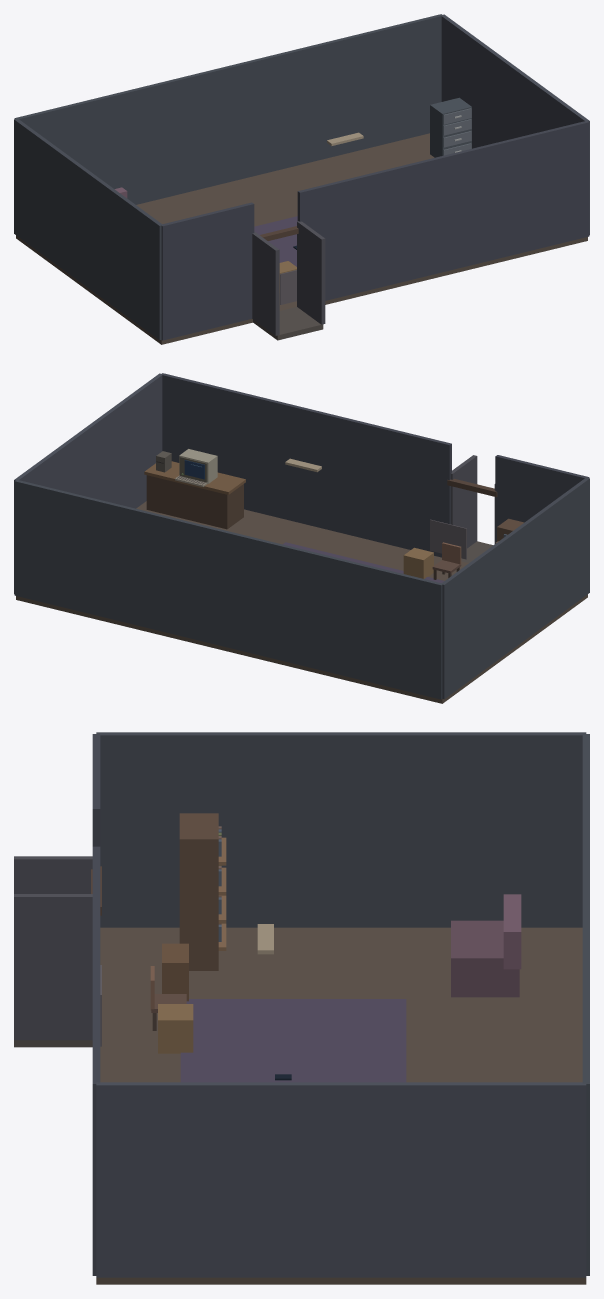
The model's file is estudioRadeC3.obj.
3 renders of one model, top to bottom at view 1: azimuth 30°, elevation 25°; view 2: azimuth 150°, elevation 25°; view 3: azimuth 270°, elevation 25°, orthographic. The views are drawn at different scales.
Visible parts, largest first — view 1: Pared_sur, Pared_norte_derecha, Pared_oeste, Piso_del_estudio, Pared_norte_izquierda, Pared_este, Pasillo_del_estudio, Decoración_original, Archivador, Umbral_del_estudio, Resane_de_pintura; view 2: Pared_sur, Pared_norte_derecha, Pared_oeste, Pared_este, Piso_del_estudio, Decoración_original, Pared_norte_izquierda, Escritorio, Pasillo_del_estudio, Resane_de_pintura, Caja_de_cables, Silla_que_estorba; view 3: Pared_este, Pared_oeste, Piso_del_estudio, Decoración_original, Pasillo_del_estudio, Librero, Sillón_de_lectura, Pared_sur, Pared_norte_derecha, Caja_de_cables, Mesa_auxiliar, Pared_norte_izquierda.
Part boxes in pixels (bbox=[...]): Pared_sur: bbox=[14, 14, 442, 204]; Pared_norte_derecha: bbox=[297, 121, 589, 300]; Pared_oeste: bbox=[14, 118, 162, 340]; Piso_del_estudio: bbox=[16, 133, 587, 344]; Pared_norte_izquierda: bbox=[161, 202, 254, 340]; Pared_este: bbox=[441, 14, 589, 235]; Pasillo_del_estudio: bbox=[252, 221, 325, 335]; Decoración_original: bbox=[115, 108, 471, 266]; Archivador: bbox=[430, 97, 471, 157]; Umbral_del_estudio: bbox=[253, 307, 323, 340]; Resane_de_pintura: bbox=[280, 270, 296, 304]; Pared_sur: bbox=[14, 480, 442, 699]; Pared_norte_derecha: bbox=[161, 373, 451, 557]; Pared_oeste: bbox=[441, 477, 589, 699]; Pared_este: bbox=[14, 373, 162, 594]; Piso_del_estudio: bbox=[16, 501, 587, 703]; Decoración_original: bbox=[15, 449, 506, 699]; Pared_norte_izquierda: bbox=[495, 455, 589, 543]; Escritorio: bbox=[146, 475, 243, 529]; Pasillo_del_estudio: bbox=[450, 455, 495, 548]; Resane_de_pintura: bbox=[430, 519, 466, 559]; Caja_de_cables: bbox=[403, 547, 433, 578]; Silla_que_estorba: bbox=[432, 542, 461, 579]; Pared_este: bbox=[96, 1082, 586, 1277]; Pared_oeste: bbox=[96, 732, 586, 927]; Piso_del_estudio: bbox=[96, 927, 586, 1284]; Decoración_original: bbox=[91, 826, 589, 1275]; Pasillo_del_estudio: bbox=[14, 856, 92, 1040]; Librero: bbox=[179, 813, 218, 970]; Sillón_de_lectura: bbox=[451, 920, 519, 997]; Pared_sur: bbox=[582, 734, 589, 1275]; Pared_norte_derecha: bbox=[92, 846, 100, 1275]; Caja_de_cables: bbox=[158, 1004, 193, 1053]; Mesa_auxiliar: bbox=[162, 943, 188, 1001]; Pared_norte_izquierda: bbox=[92, 734, 100, 846].
Size of the model in its own units: 24.82 by 6.58 by 17.11.
